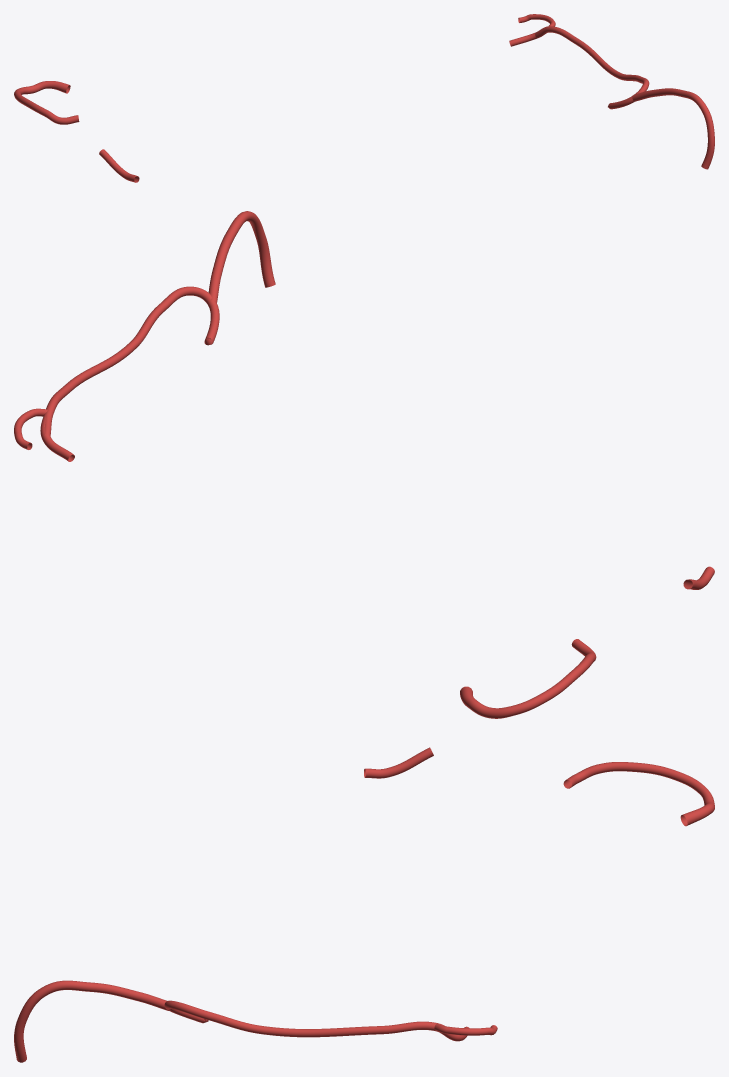
3 views of the same model, one above another, from view 1: azimuth 30°, elevation 25°; view 2: azimuth 150°, elevation 25°; view 3: azimuth 270°, elevation 25° (orthographic). The views are drawn at different scales.
Parts seen in each view (by area): view 1: 右缘支; view 2: 右缘支; view 3: 右缘支.
Part boxes in pixels (x1,y1,x2,y2): 右缘支: (14, 14, 714, 182); 右缘支: (14, 211, 714, 718); 右缘支: (14, 747, 714, 1062).
Size of the model in its own units: 0.2006 by 0.0309 by 0.1978.
